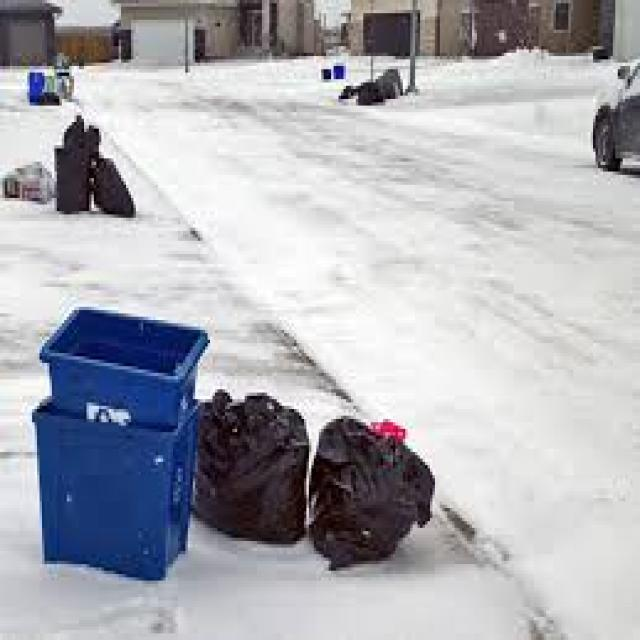plastic_bag: (310, 407, 428, 542), (198, 394, 312, 526), (92, 143, 132, 205)
